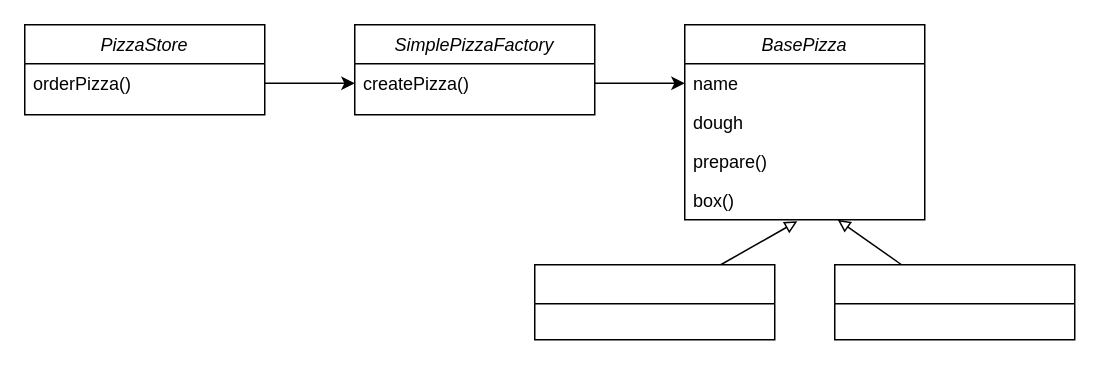
Image size: 1100x365. Some labels were removed from this diagram. Each missing label, with the centre of its shape:
CheesePizza: the point at 654,301
VeggiePizza: the point at 954,301
